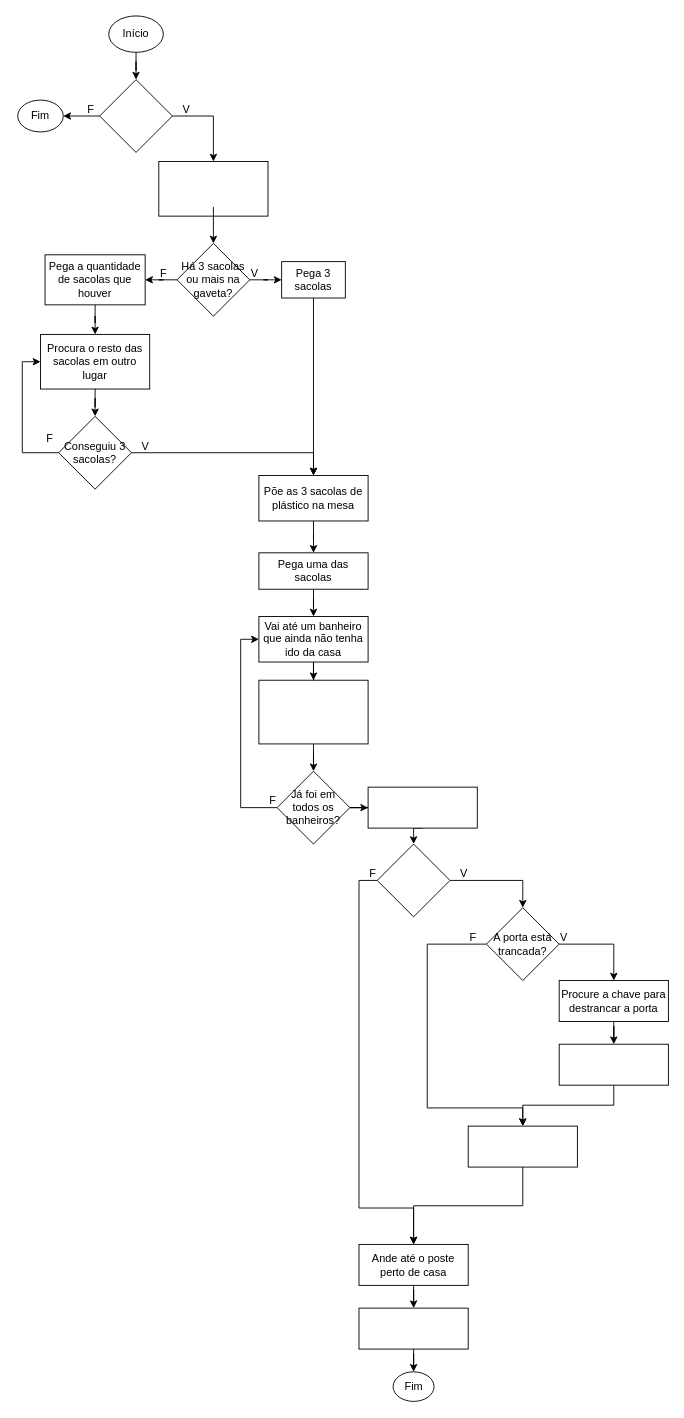
Some shapes in this 684 by 1418 pixel diagram are drawn without their labels. Here are the shapes that lost their labels. From the top down, the box of each, then its label:
(99, 79, 172, 152): É terça, quinta ou sábado?
(158, 161, 268, 216): Vai na cozinha até a gaveta de sacolas de compras
(258, 679, 368, 744): Abre o lixeiro, recolhe o saco de lixo de dentro do lixeiro, fecha o lixeiro
(367, 786, 477, 828): Amarra juntos os 3 sacos de lixo
(376, 843, 450, 917): A porta está fechada?
(558, 1043, 668, 1085): Destranque a porta
(467, 1125, 577, 1167): Abre a porta
(358, 1307, 468, 1349): Coloque o lixo aí
